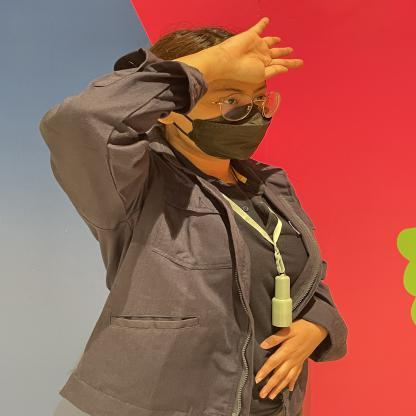Sick: (161, 8, 339, 93)
